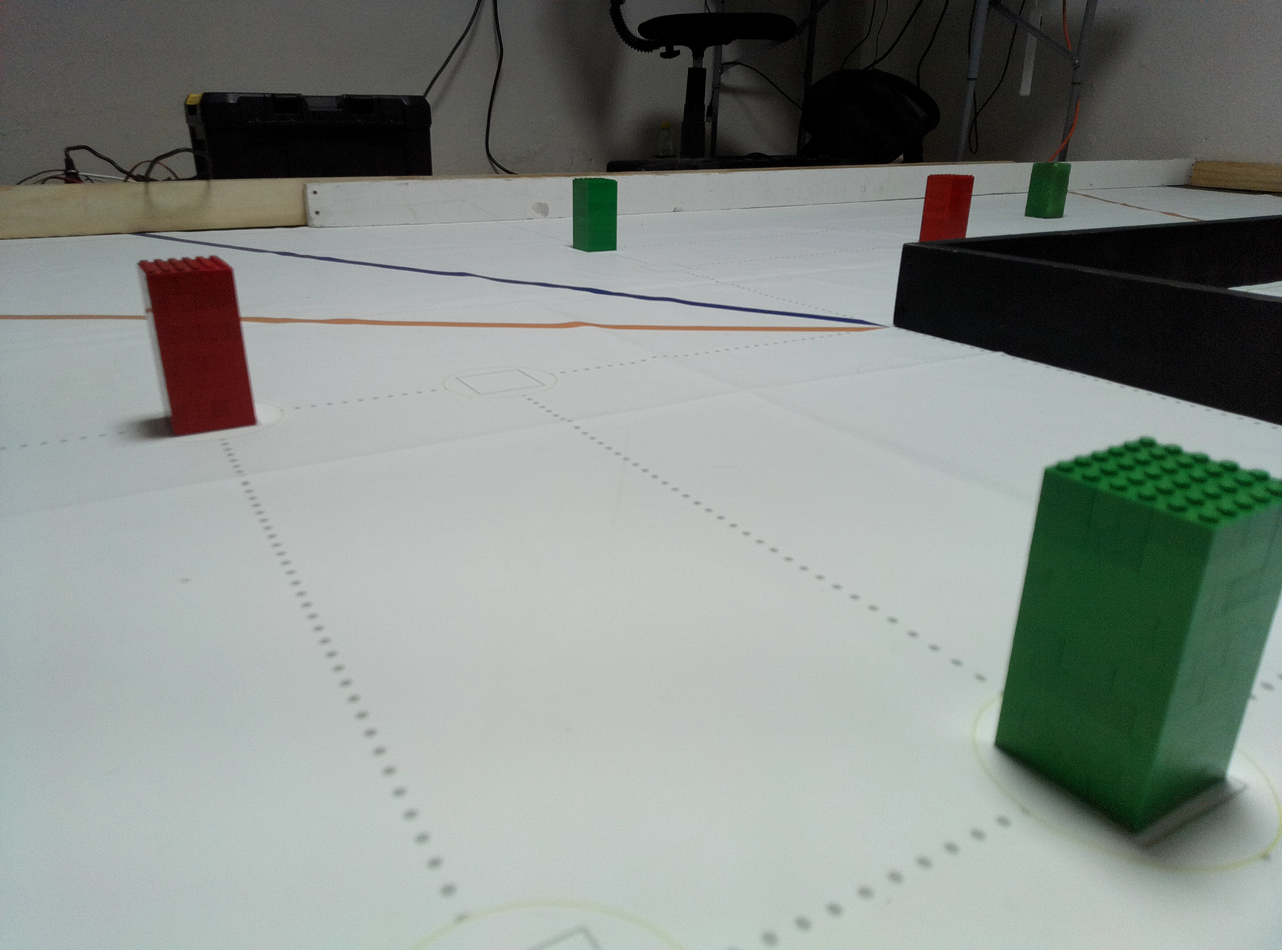greenbox: (991, 434, 1280, 833), (572, 176, 618, 253), (1024, 161, 1073, 220)
redbox: (134, 255, 259, 437), (918, 173, 977, 240)
